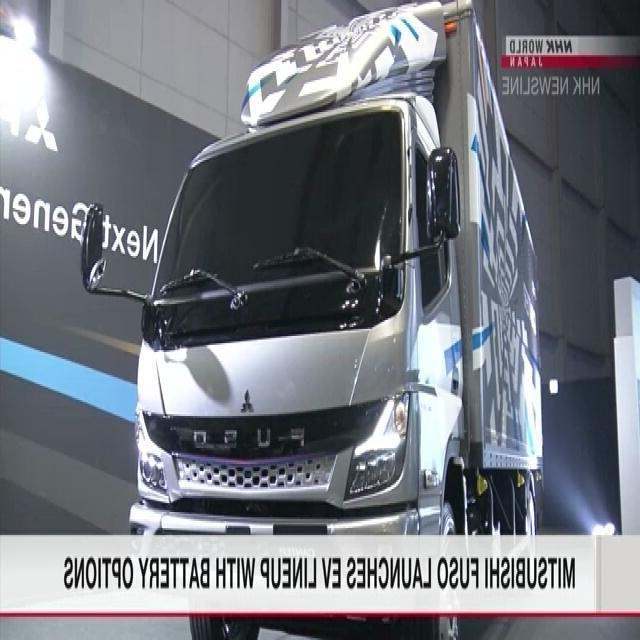Truck: (80, 0, 545, 533)
